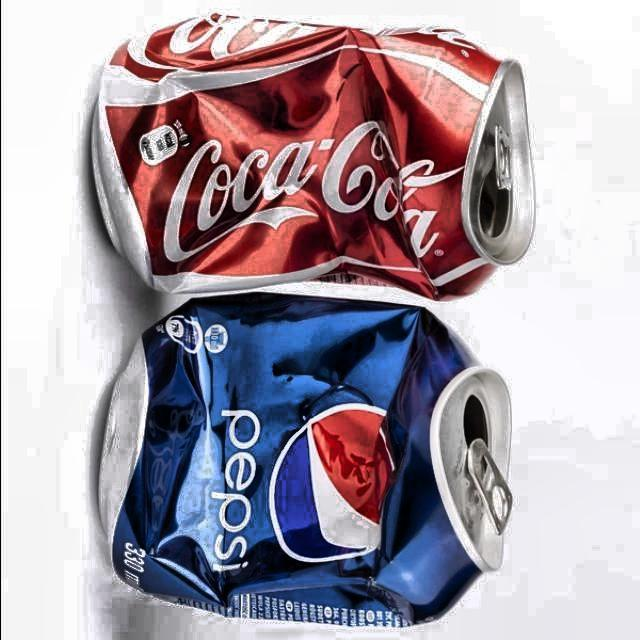metal: (96, 293, 514, 629), (89, 13, 539, 303)
